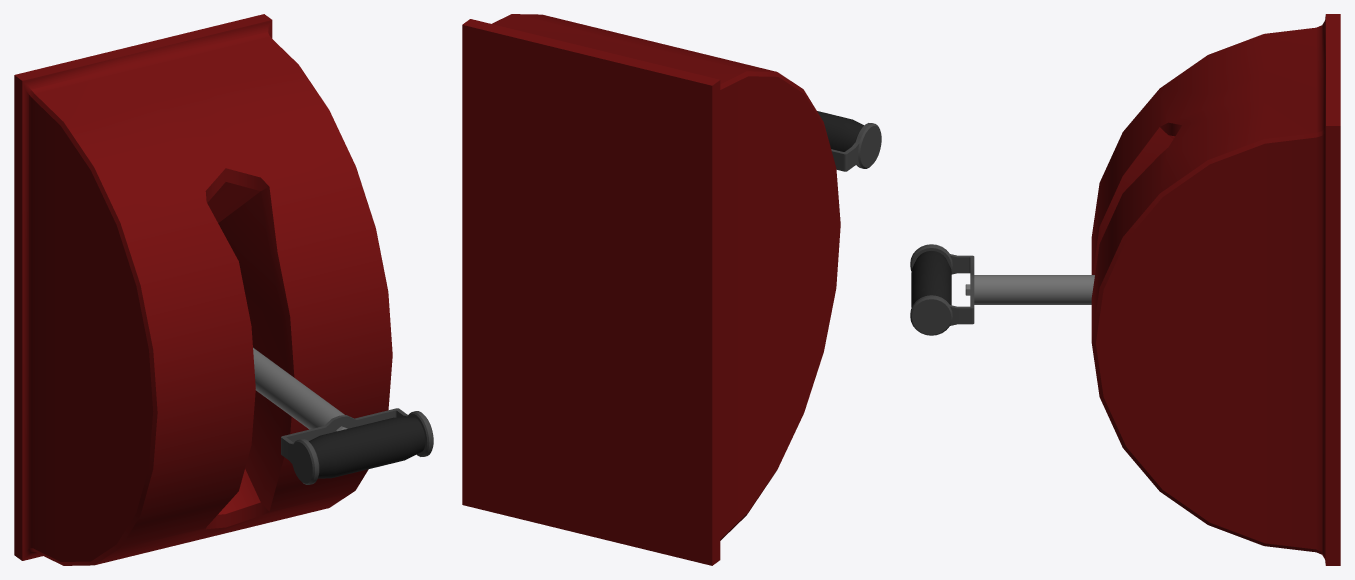
File: Angular lever.fbx
3 views of the same model, side by side, from view 1: azimuth 30°, elevation 25°; view 2: azimuth 150°, elevation 25°; view 3: azimuth 270°, elevation 25° (orthographic). The views are drawn at different scales.
Visible parts, largest first — view 1: Body, Grip, Handle; view 2: Body, Grip; view 3: Body, Grip, Handle.
Boxes of the visible parts, bbox=[...] form: Body: bbox=[14, 14, 392, 565]; Grip: bbox=[281, 408, 433, 484]; Handle: bbox=[253, 347, 344, 429]; Body: bbox=[462, 14, 840, 565]; Grip: bbox=[817, 111, 881, 171]; Body: bbox=[1091, 14, 1340, 565]; Grip: bbox=[910, 244, 974, 335]; Handle: bbox=[974, 275, 1094, 304].
Bounding box in the file's own units: 6.03 × 11.07 × 9.82.
